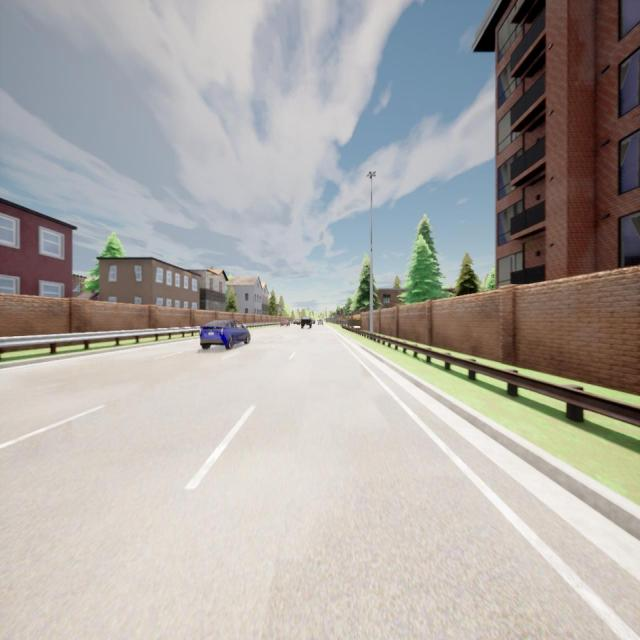Vehicle: (200, 319, 250, 349), (300, 315, 312, 330), (281, 319, 291, 328), (317, 318, 324, 326), (294, 319, 300, 325), (313, 320, 316, 324)
